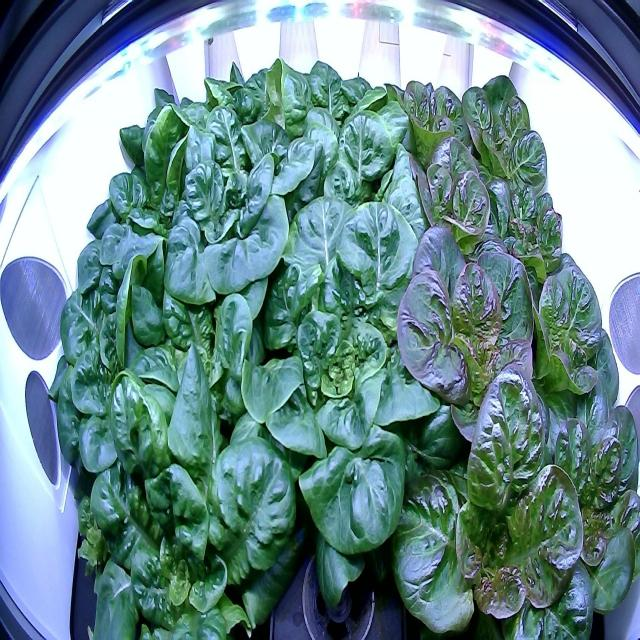Ready: (229, 187, 472, 619), (65, 334, 304, 636), (406, 361, 596, 637), (34, 233, 194, 487), (385, 218, 546, 454), (503, 372, 640, 640), (116, 226, 282, 426), (264, 96, 426, 274), (147, 111, 294, 306), (262, 31, 410, 193), (503, 235, 623, 425), (75, 108, 200, 270), (392, 129, 506, 272), (466, 162, 572, 312), (110, 67, 222, 205), (447, 59, 552, 206), (165, 50, 278, 176), (381, 65, 482, 201)
